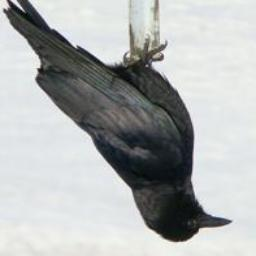Crow: (3, 0, 237, 244)
